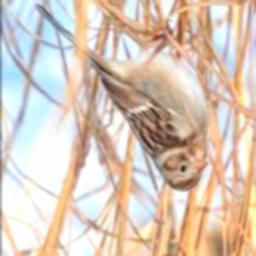Sparrow: (36, 2, 209, 192)
